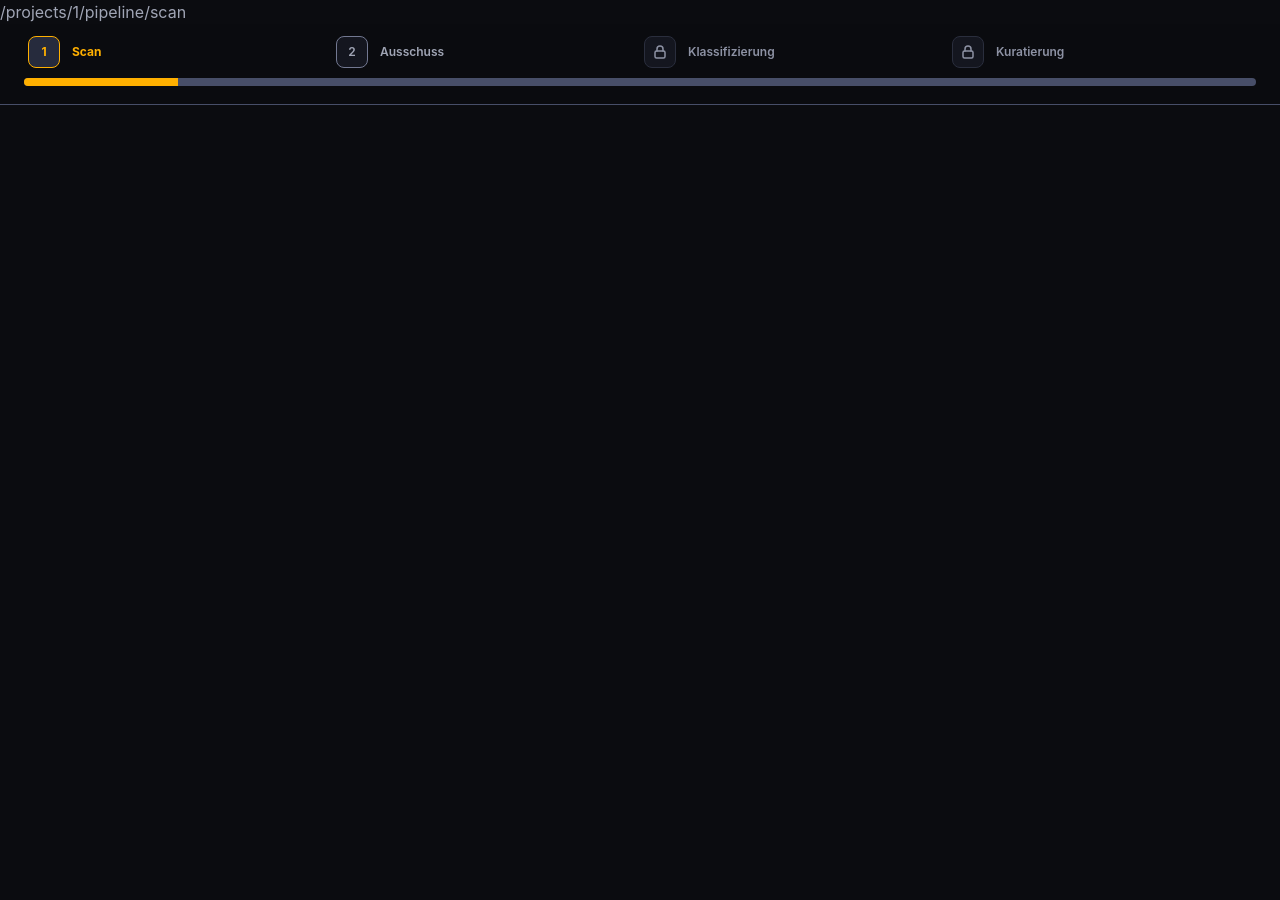
Test: Stepper › gibt den Grund am gesperrten Schritt selbst preis, beim Antippen
Step 1. Click the button with aria-label "Schritt 3 von 4: Klassifizierung, gesperrt" → (660, 52), box x1=640 y1=36 x2=948 y2=68
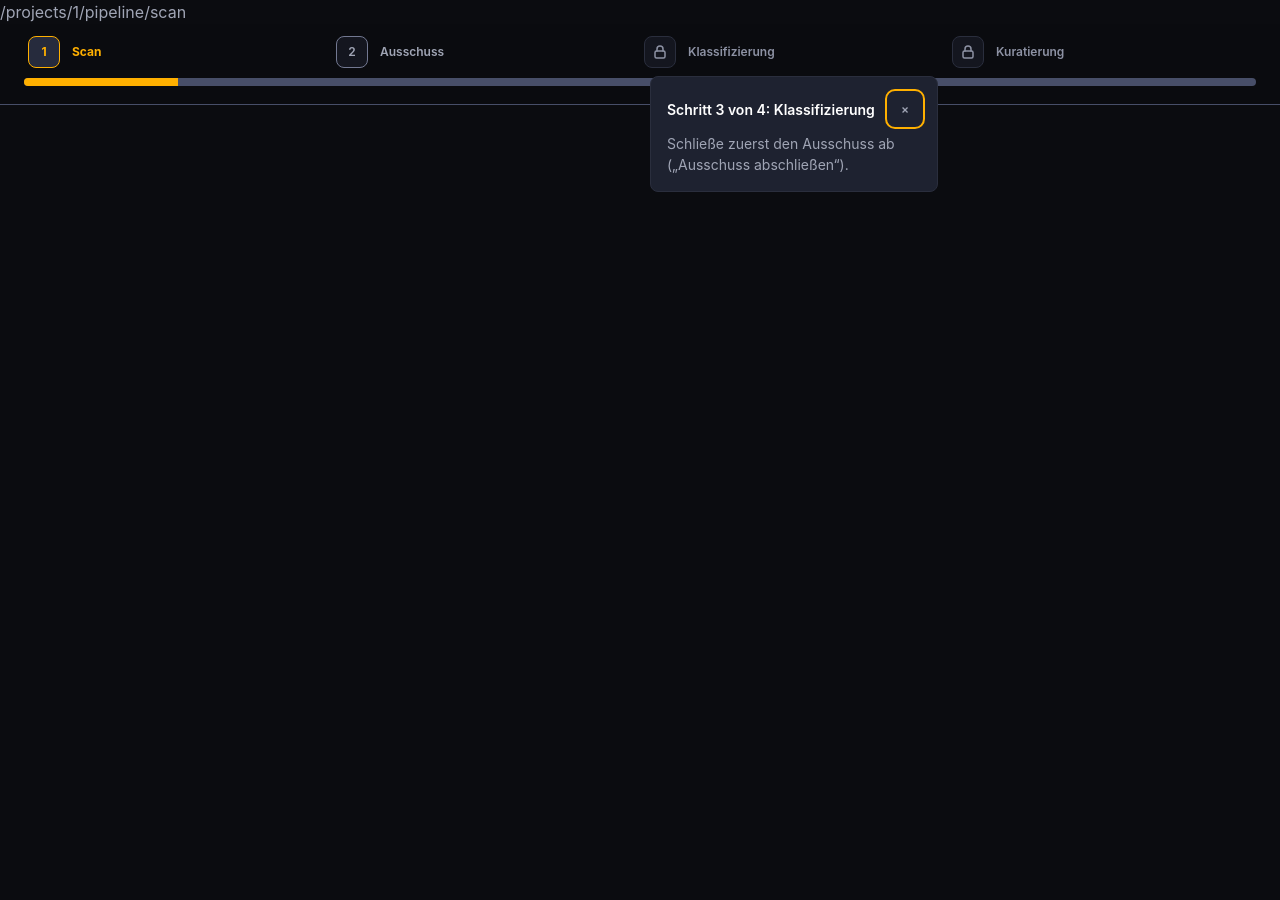
Check: the text "Schließe zuerst den Ausschuss ab („Ausschuss abschließen“)." is shown, box x1=667 y1=133 x2=921 y2=175
